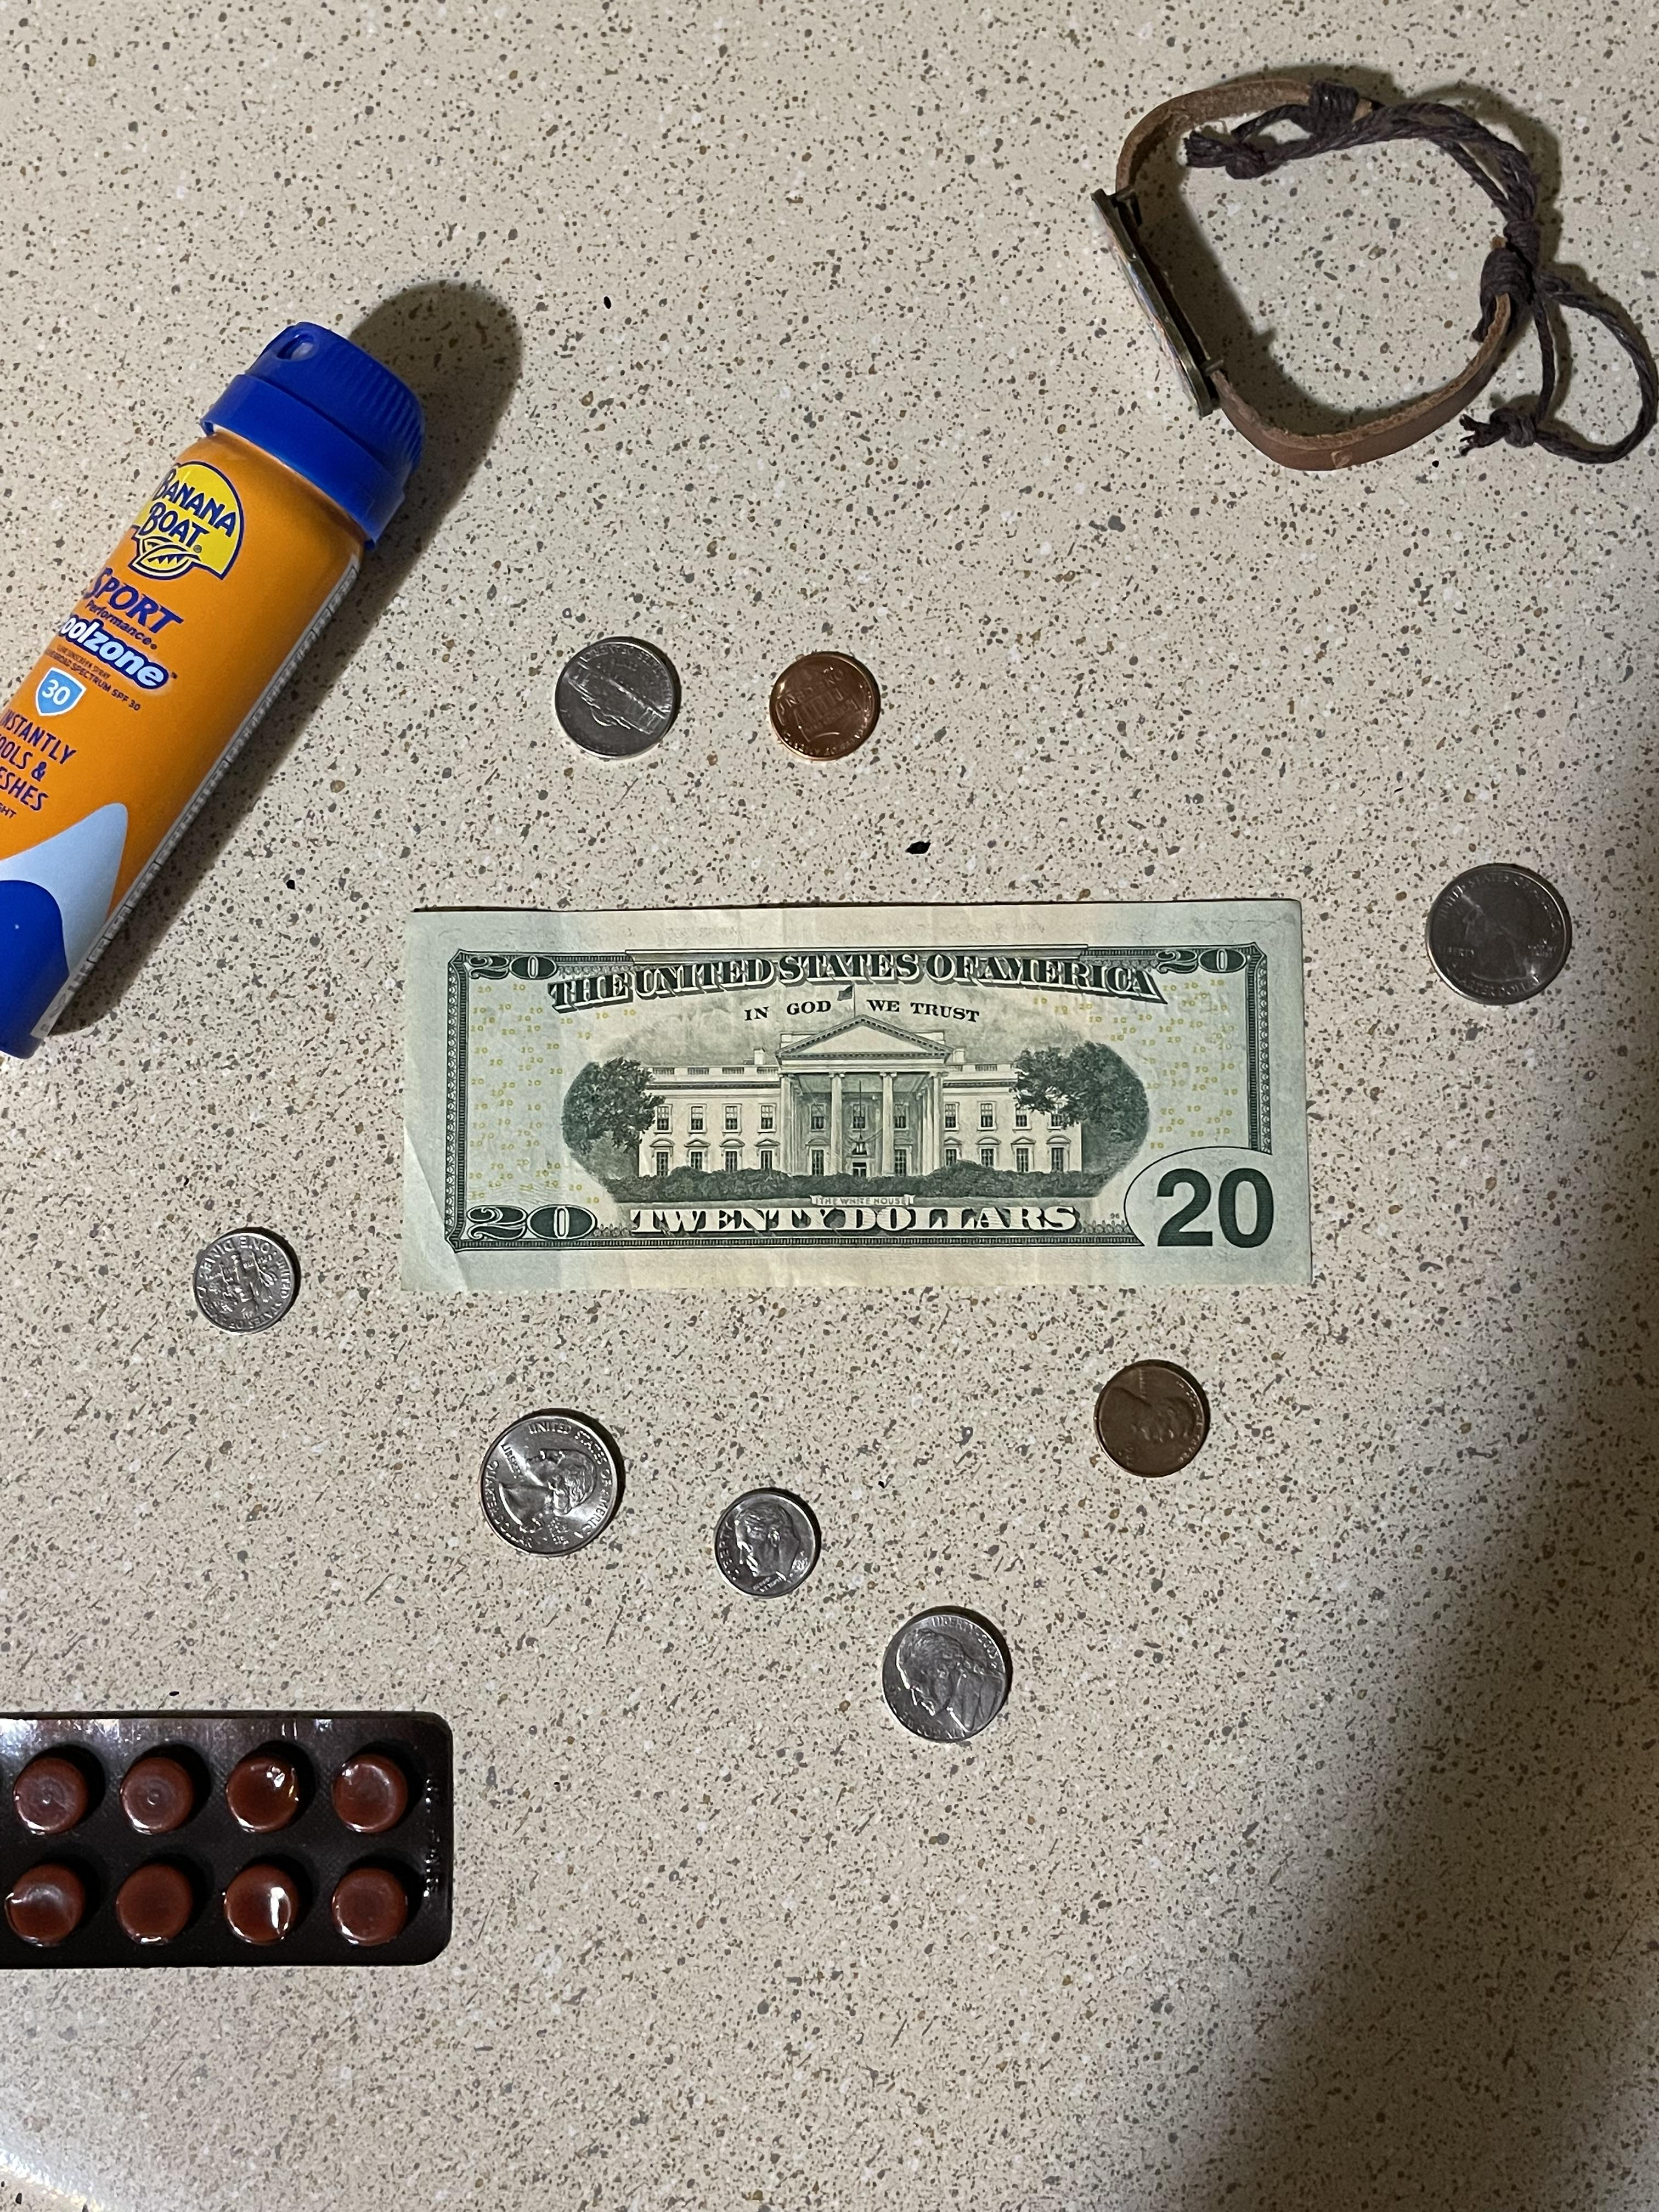Dime: (711, 1491, 817, 1599), (192, 1231, 295, 1336)
Nickel: (882, 1611, 1009, 1743), (554, 632, 676, 766)
Penny: (1093, 1364, 1206, 1479), (769, 651, 877, 761)
Quarter: (1424, 862, 1572, 1007), (479, 1414, 617, 1559)
TwentyBill: (397, 899, 1314, 1294)
